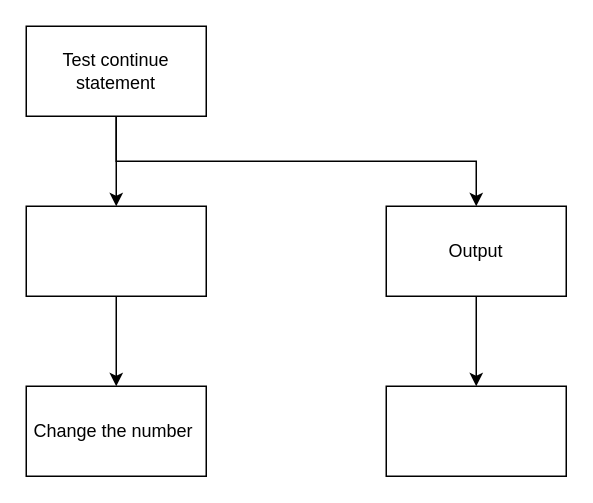
Some shapes in this 593 by 503 pixel diagram are drawn without their labels. The centre of each missing label's shape, as x and y in pixels:
Process: point 115,250
Show result: point 475,430
